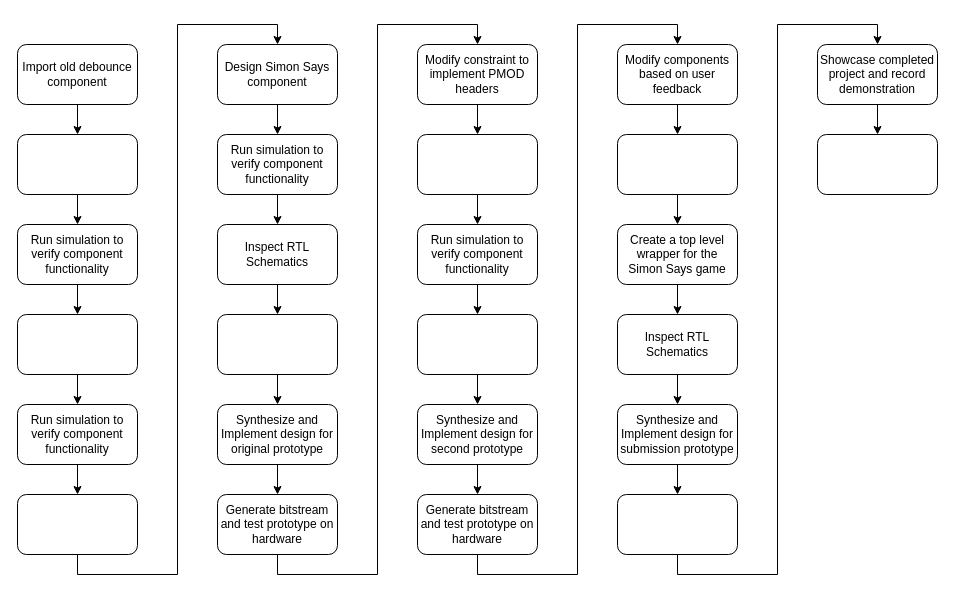
Image size: 955x600. Some labels were removed from this diagram. The centre of each missing label's shape, as x and y in pixels:
"Create report and presentation of the project" belongs at [877,164].
"Design pulse detector component" belongs at [77,164].
"Design random number generator component" belongs at [77,344].
"Design Simon Says finite state machine" belongs at [77,524].
"Generate bitstream and test submission on hardware" belongs at [677,524].
"Modify constraint based on user feedback" belongs at [677,164].
"Modify constraint for original prototype" belongs at [277,344].
"Modify constraint for second prototype" belongs at [477,344].
"Modify existing components to add SSD and BTN PMODs" belongs at [477,164].
